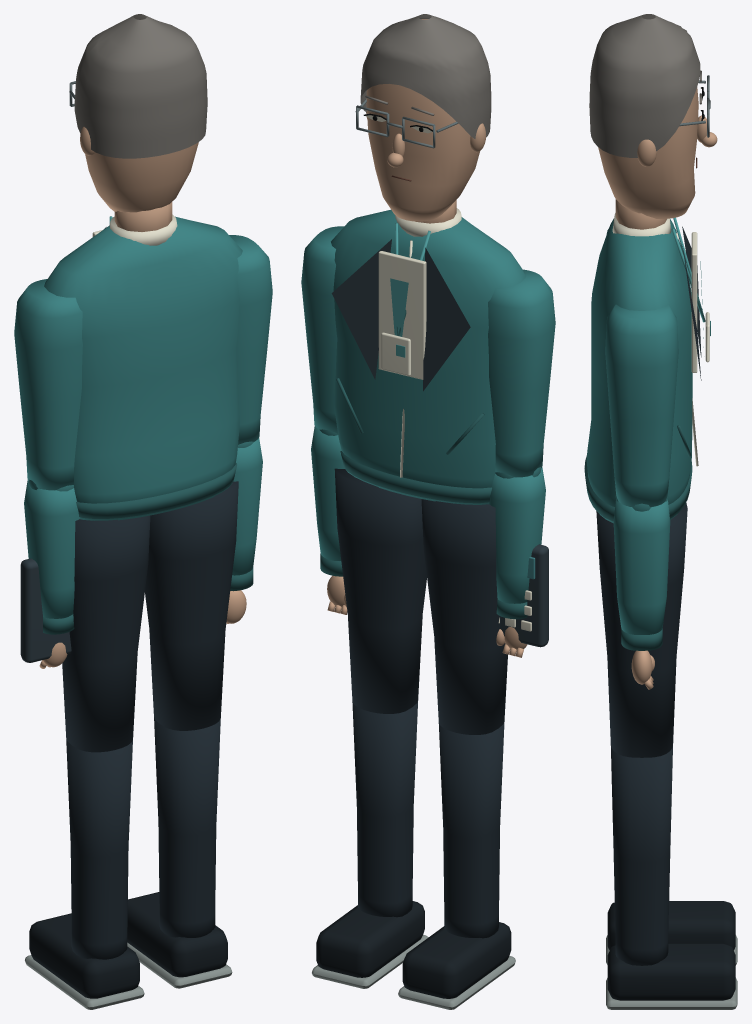
File: npc_finance.glb
The picture shows the model from 3 angles, left to right: view 1: azimuth 30°, elevation 25°; view 2: azimuth 150°, elevation 25°; view 3: azimuth 270°, elevation 25°; orthographic projection.
Parts seen in each view (by area): view 1: QuietClothTorso, TrouserThigh.001, TrouserThigh, Eyebrow, Knee, Knee.001, Sleeve, Sleeve.001, ElbowTransition, AdultFace, OrdinaryShoe, OrdinaryShoe.001 (+7 smaller); view 2: QuietClothTorso, TrouserThigh.001, TrouserThigh, Knee, Knee.001, Sleeve, AdultFace, Eyebrow, JacketLapel, BusinessShirt, Sleeve.001, ElbowTransition (+11 smaller); view 3: QuietClothTorso, Sleeve.001, Eyebrow, Knee.001, TrouserThigh.001, AdultFace, ElbowTransition.001, OrdinaryShoe.001, OrdinaryShoe, BusinessShirt, ShoeSole.001, Hem (+5 smaller).
Part boxes in pixels (x1,y1,x2,y2): QuietClothTorso: (44,216,242,520); TrouserThigh.001: (145,481,238,730); TrouserThigh: (62,515,150,752); Eyebrow: (74,14,207,158); Knee: (66,739,132,959); Knee.001: (154,717,220,937); Sleeve: (14,279,82,490); Sleeve.001: (229,235,272,444); ElbowTransition: (24,479,79,618); AdultFace: (80,127,198,212); OrdinaryShoe: (29,913,139,998); OrdinaryShoe.001: (127,892,227,977); QuietClothTorso: (331,209,525,504); TrouserThigh.001: (334,468,426,713); TrouserThigh: (421,499,507,734); Knee: (438,721,504,938); Knee.001: (352,700,418,917); Sleeve: (488,269,555,477); AdultFace: (366,19,486,221); Eyebrow: (360,14,491,138); JacketLapel: (331,239,470,391); BusinessShirt: (378,208,461,477); Sleeve.001: (301,226,343,433); ElbowTransition: (489,467,545,603); QuietClothTorso: (586,218,692,523); Sleeve.001: (605,304,678,506); Eyebrow: (589,14,701,157); Knee.001: (610,745,672,965); TrouserThigh.001: (596,502,687,757); AdultFace: (598,87,717,218); ElbowTransition.001: (613,494,670,634); OrdinaryShoe.001: (607,943,735,1000); OrdinaryShoe: (607,901,735,950); BusinessShirt: (612,213,709,466); ShoeSole.001: (606,977,737,1009); Hem: (584,425,692,521).
Bounding box in the file's own units: 0.408 × 1.53 × 0.221.
